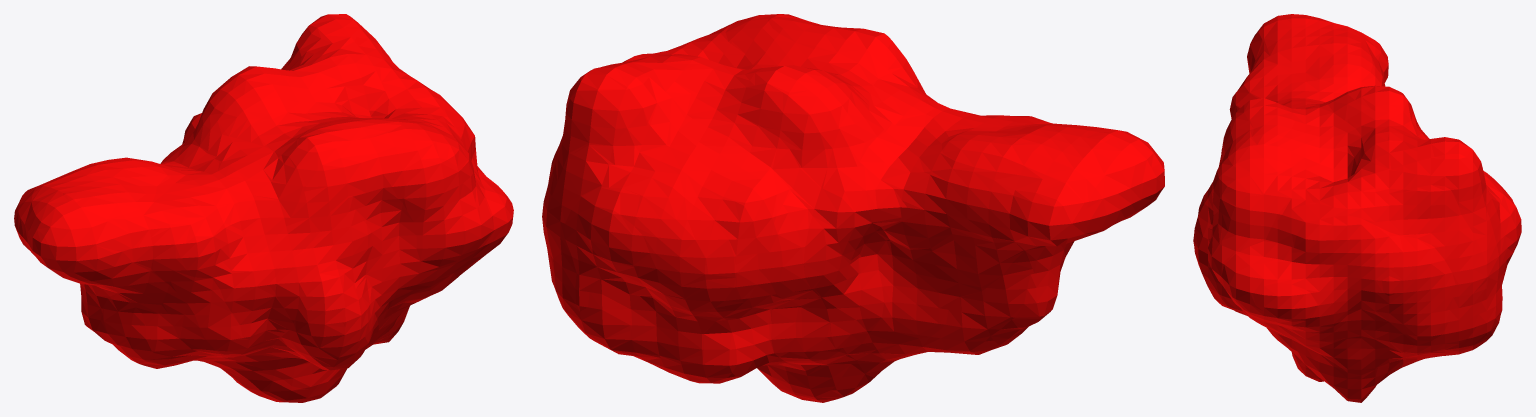
Rendered from cobT_coarse.dae.
3 renders of one model, left to right at view 1: azimuth 30°, elevation 25°; view 2: azimuth 150°, elevation 25°; view 3: azimuth 270°, elevation 25°, orthographic. The views are drawn at different scales.
Visible parts, largest first — view 1: cobT; view 2: cobT; view 3: cobT.
Part boxes in pixels (bbox=[...]): cobT: bbox=[14, 14, 513, 402]; cobT: bbox=[542, 14, 1164, 402]; cobT: bbox=[1193, 14, 1521, 402].
Size of the model in its own units: 75.15 by 47.31 by 49.94.
